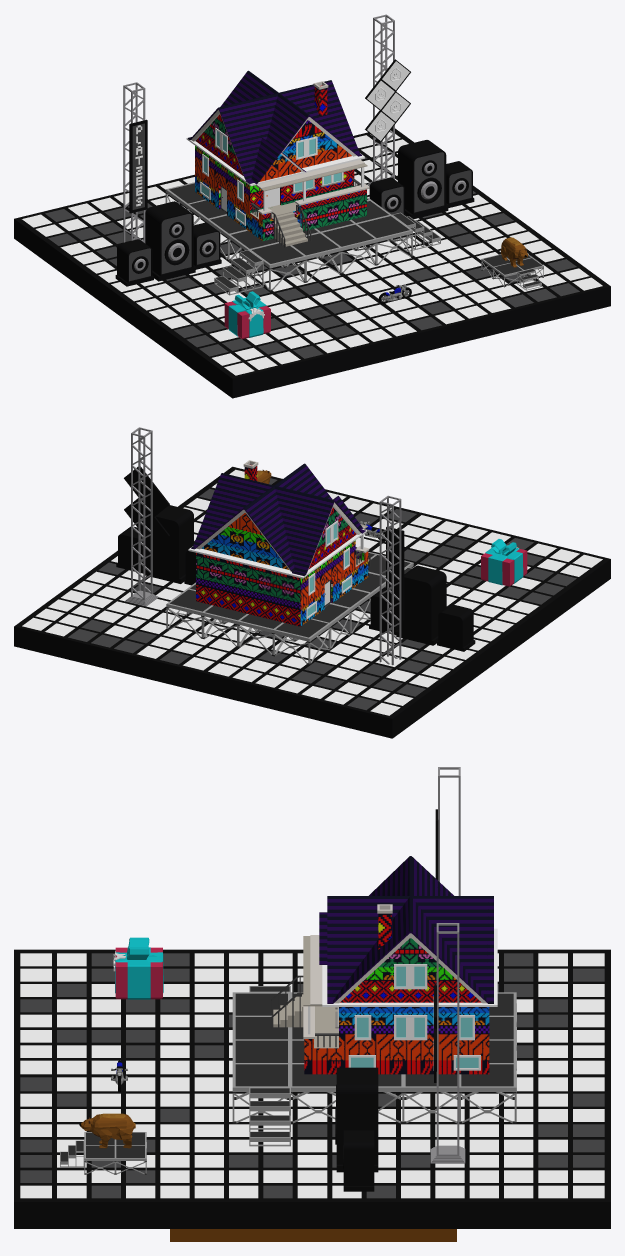
3 views of the same model, one above another, from view 1: azimuth 30°, elevation 25°; view 2: azimuth 150°, elevation 25°; view 3: azimuth 270°, elevation 25° (orthographic). The views are drawn at different scales.
Visible parts, largest first — view 1: Cube.008, Cube.966, OBJRANDOM_GIANT_PRESENT, ANIMAL_OSO; view 2: Cube.008, Cube.966, OBJRANDOM_GIANT_PRESENT; view 3: Cube.008, Cube.966, UNDERGROUND_ART_PIECE_VAN_GOGH, OBJRANDOM_GIANT_PRESENT, ANIMAL_OSO.
Boxes of the visible parts, box(x1,y1,x2,y2) form: Cube.008: box(14, 14, 610, 398); Cube.966: box(186, 70, 369, 247); OBJRANDOM_GIANT_PRESENT: box(224, 291, 270, 339); ANIMAL_OSO: box(501, 237, 528, 267); Cube.008: box(14, 427, 610, 738); Cube.966: box(188, 460, 370, 626); OBJRANDOM_GIANT_PRESENT: box(481, 539, 527, 586); Cube.008: box(14, 767, 610, 1228); Cube.966: box(271, 856, 497, 1074); UNDERGROUND_ART_PIECE_VAN_GOGH: box(170, 1229, 456, 1241); OBJRANDOM_GIANT_PRESENT: box(113, 937, 163, 999); ANIMAL_OSO: box(79, 1113, 135, 1148).
Bounding box in the file's own units: 4000 × 2098 × 4000.
39 materials, 6 textured.
